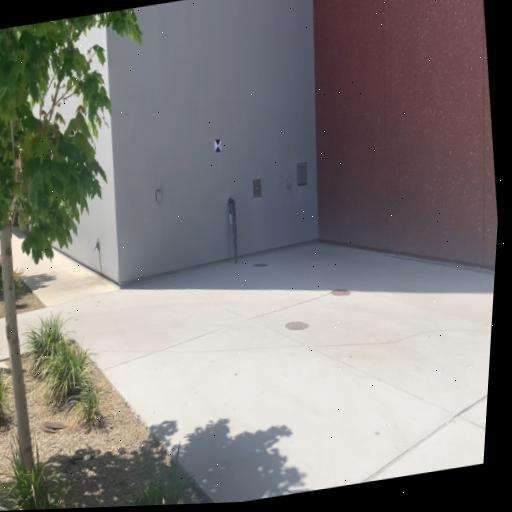target3: (215, 138, 222, 154)
